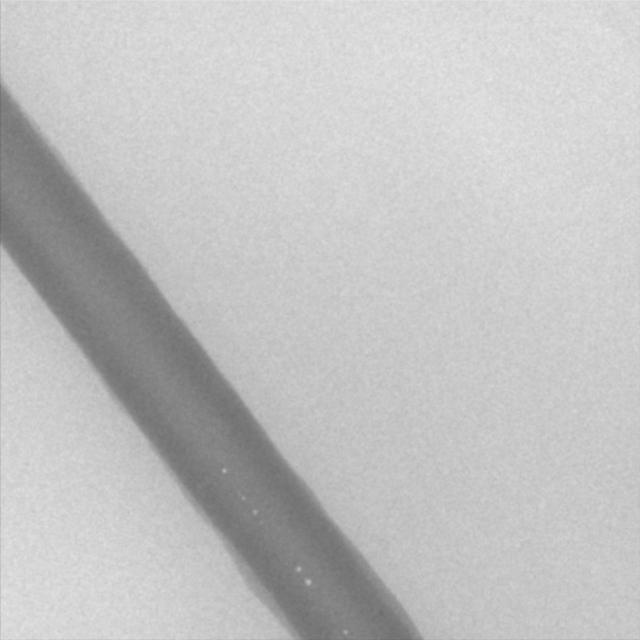air hole: (304, 576, 312, 587), (250, 507, 259, 516), (293, 564, 303, 572), (220, 466, 228, 476), (342, 627, 350, 636)
